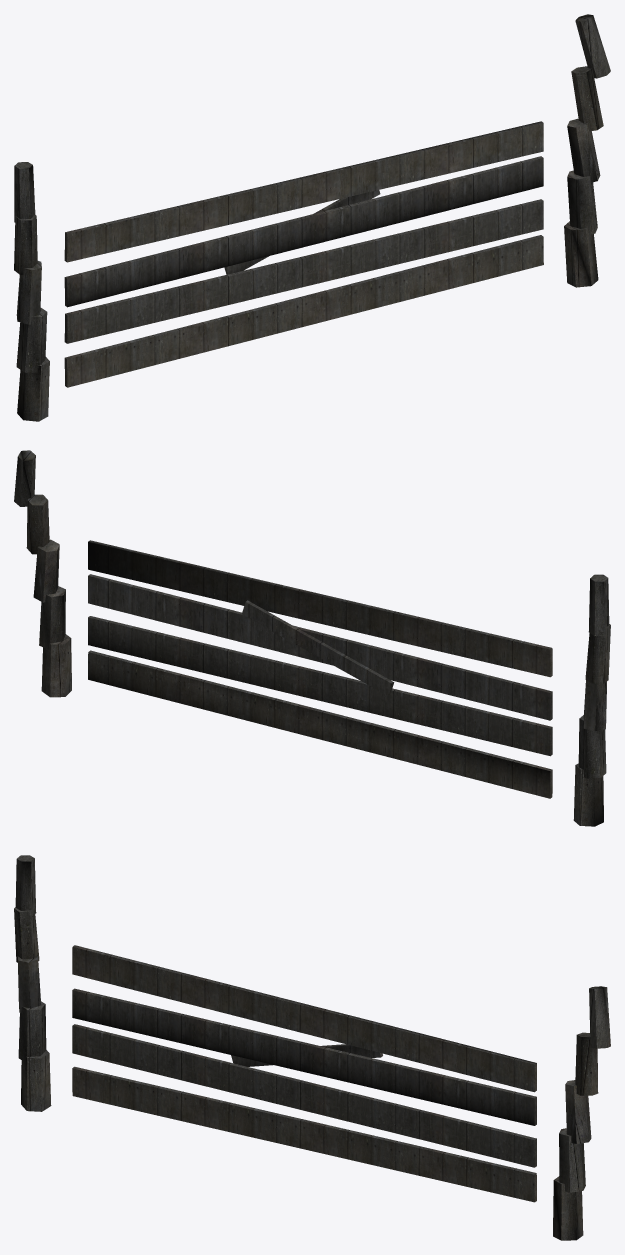
File: plankgate.glb
The picture shows the model from 3 angles, top to bottom: view 1: azimuth 30°, elevation 25°; view 2: azimuth 150°, elevation 25°; view 3: azimuth 330°, elevation 25°; orthographic projection. The views are drawn at different scales.
Parts seen in each view (by area): view 1: plankgate; view 2: plankgate; view 3: plankgate.
Part boxes in pixels (x1,y1,x2,y2): plankgate: (14,14,610,421); plankgate: (14,450,610,826); plankgate: (14,855,610,1240).
Size of the model in its own units: 4.41 by 1.78 by 0.3465.
1 material, 1 textured.
